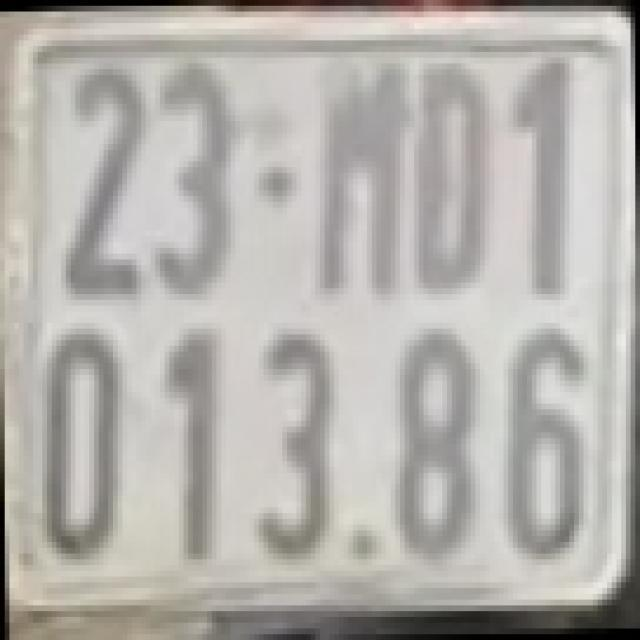0: (42, 328, 122, 560), (414, 63, 490, 294)
1: (508, 63, 574, 294), (160, 328, 221, 560)
2: (66, 63, 142, 294)
3: (156, 63, 236, 294), (258, 334, 334, 554)
6: (504, 322, 588, 554)
8: (396, 328, 476, 554)
M: (308, 51, 402, 312)
